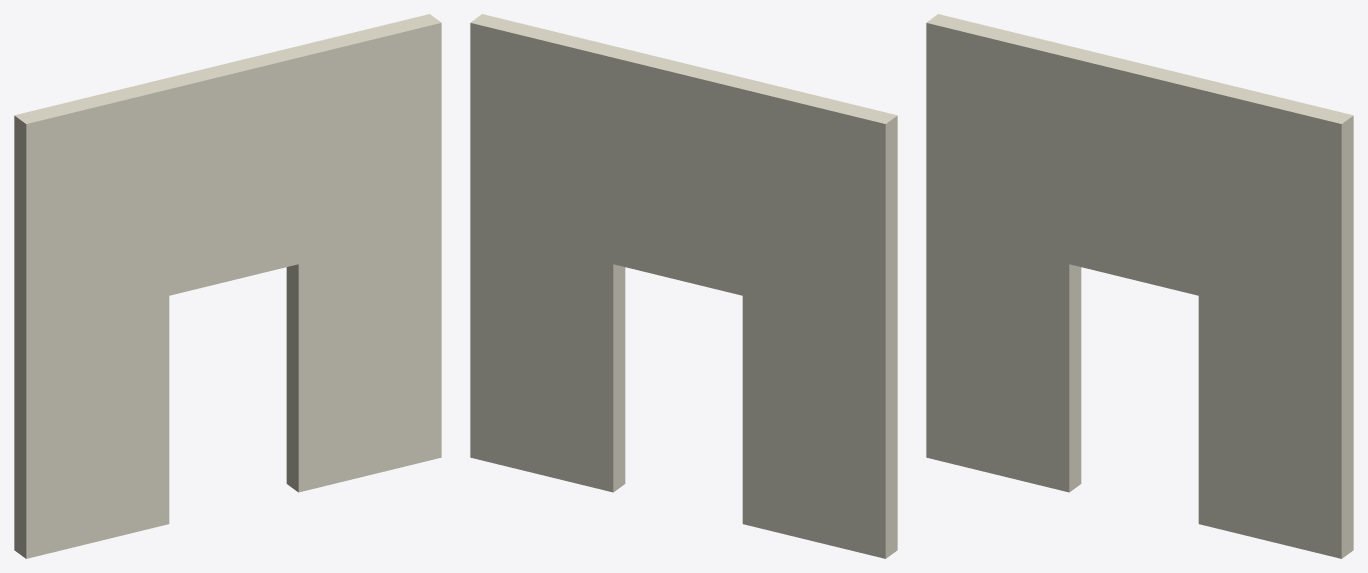
The model's file is Wall_Door_400x400.glb.
The picture shows the model from 3 angles, left to right: view 1: azimuth 30°, elevation 25°; view 2: azimuth 150°, elevation 25°; view 3: azimuth 330°, elevation 25°; orthographic projection.
Parts seen in each view (by area): view 1: Wall_Door_400x400; view 2: Wall_Door_400x400; view 3: Wall_Door_400x400.
Part boxes in pixels (left/top/right/bottom): Wall_Door_400x400: left=14, top=14, right=441, bottom=558; Wall_Door_400x400: left=470, top=14, right=897, bottom=558; Wall_Door_400x400: left=926, top=14, right=1353, bottom=558.
Size of the model in its own units: 4 by 4 by 0.2.
